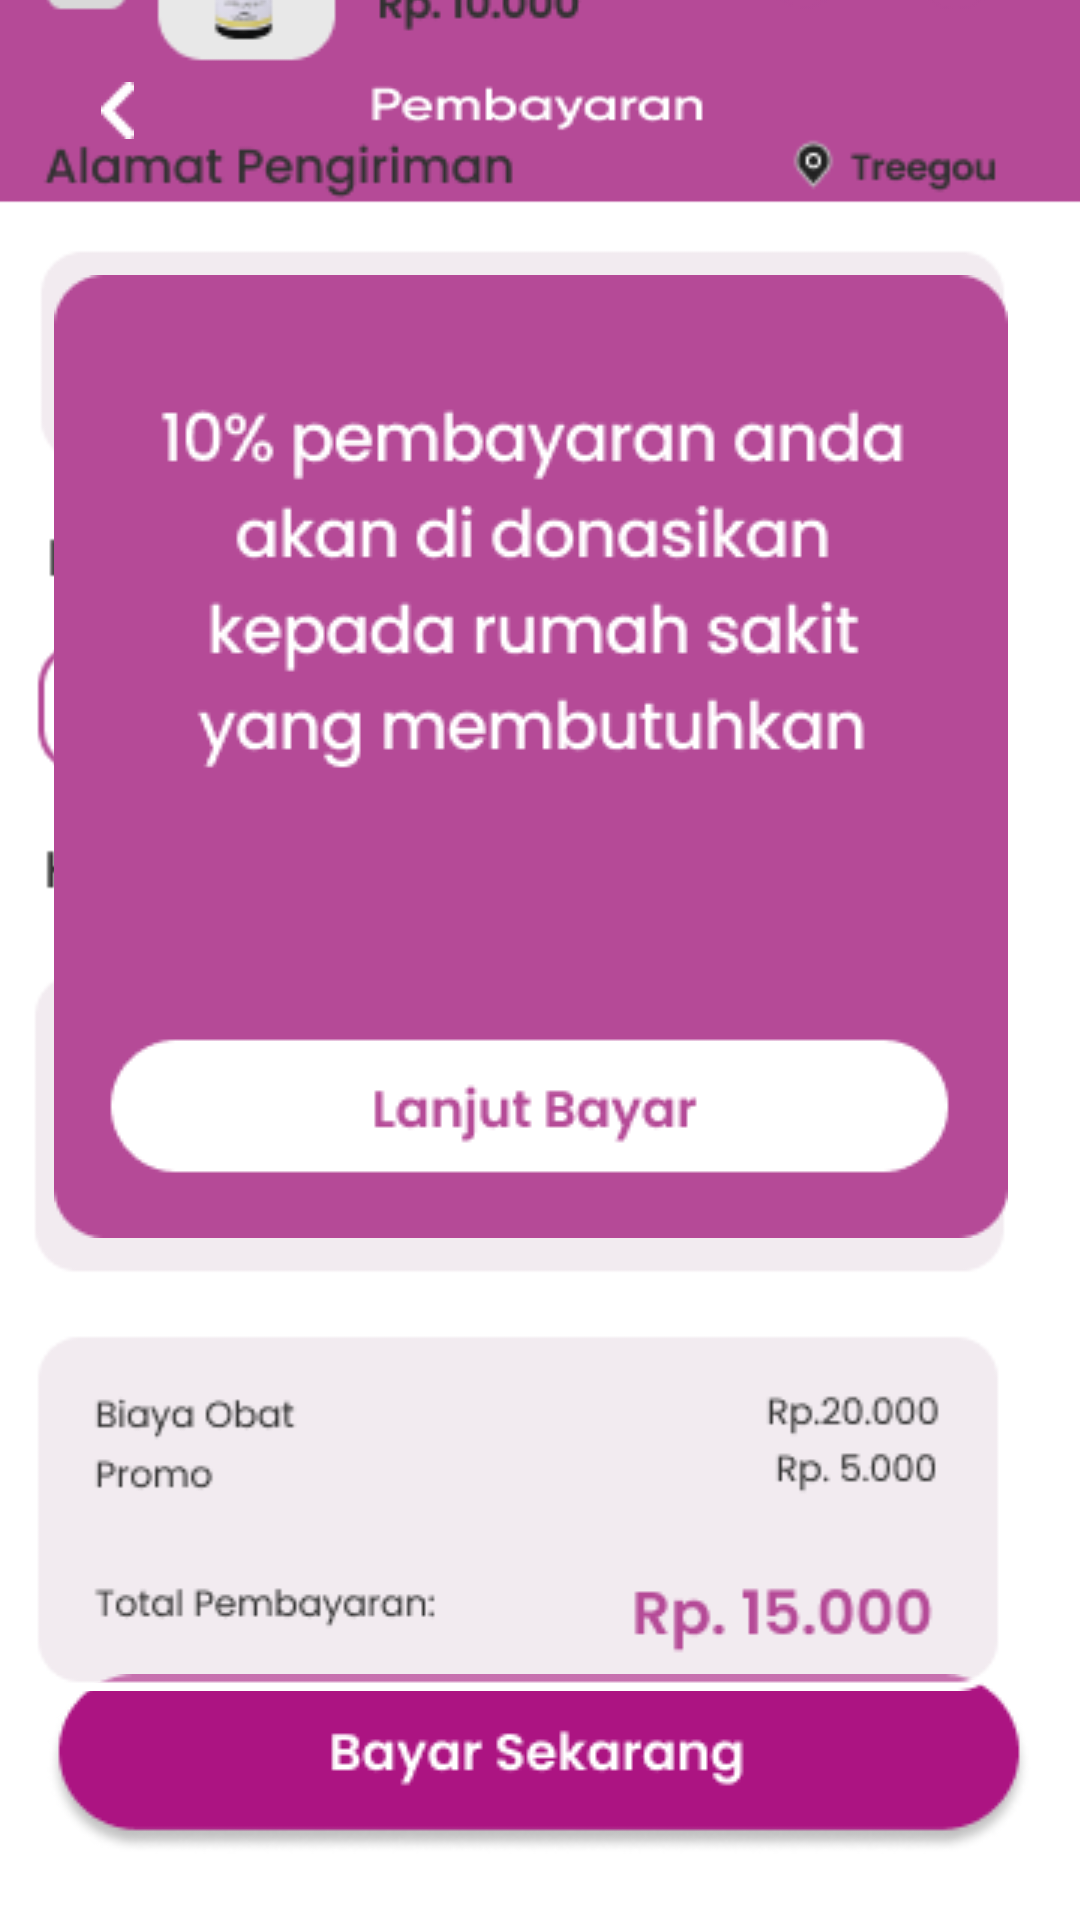

Locate icon controls on the screen. Image size 1080 × 1920, boxes as box=[x1, y1, x2, y2].
back: box=[101, 82, 134, 139]
